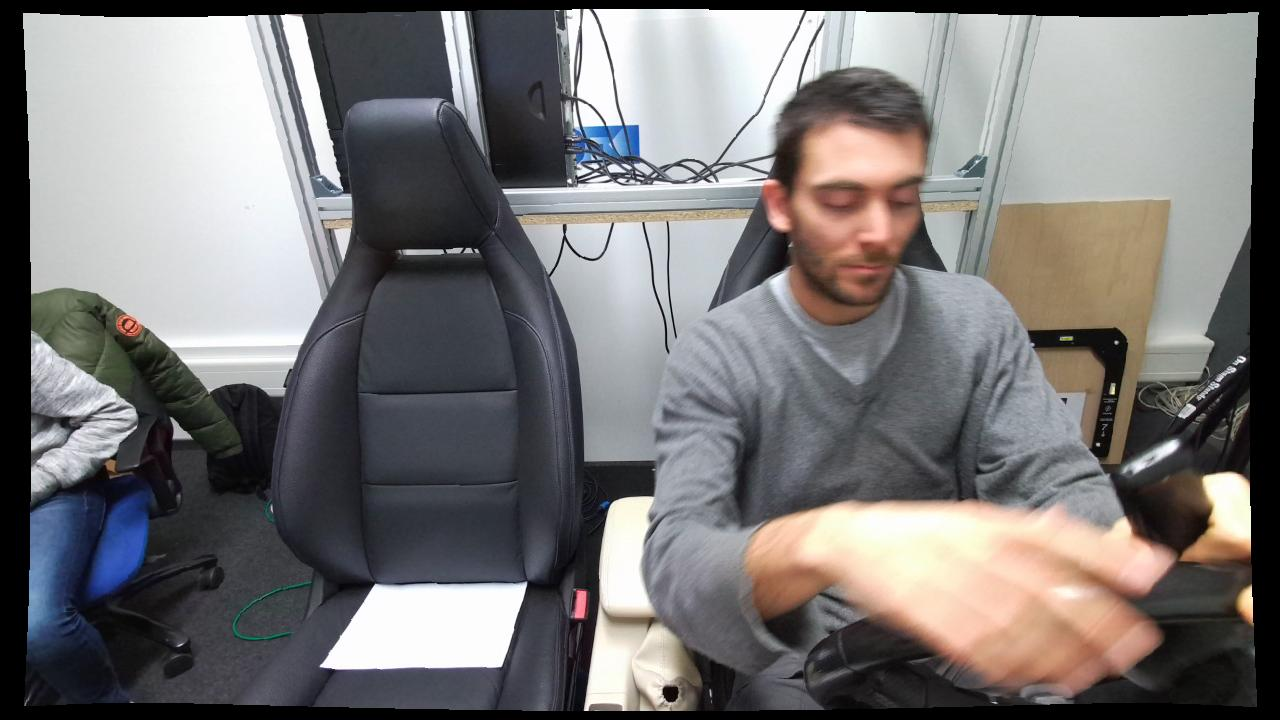PhoneUse: (1088, 427, 1230, 581)
